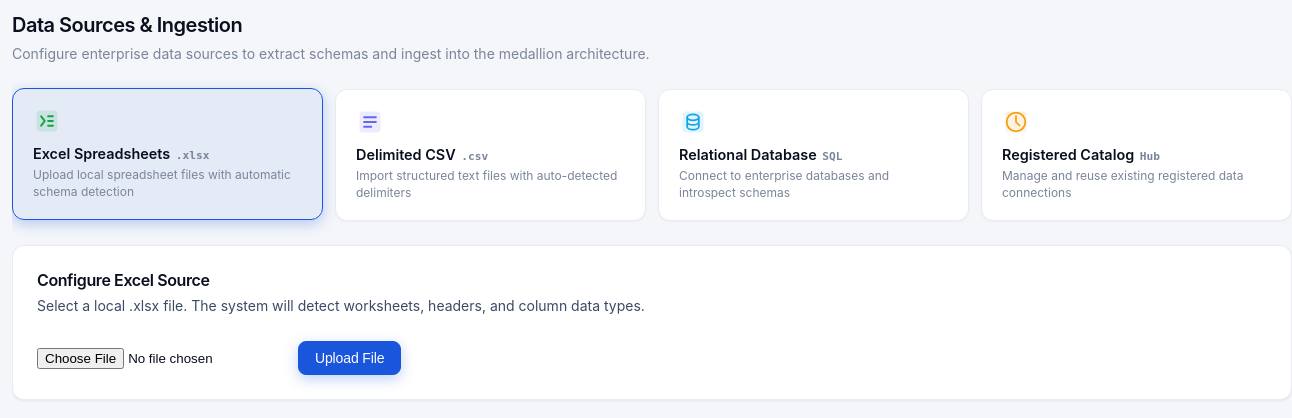
Test case: DataSourcesPage › switches to CSV upload tab when clicked
Click the tab "Delimited CSV" at (490, 155), box [335,89,646,221]
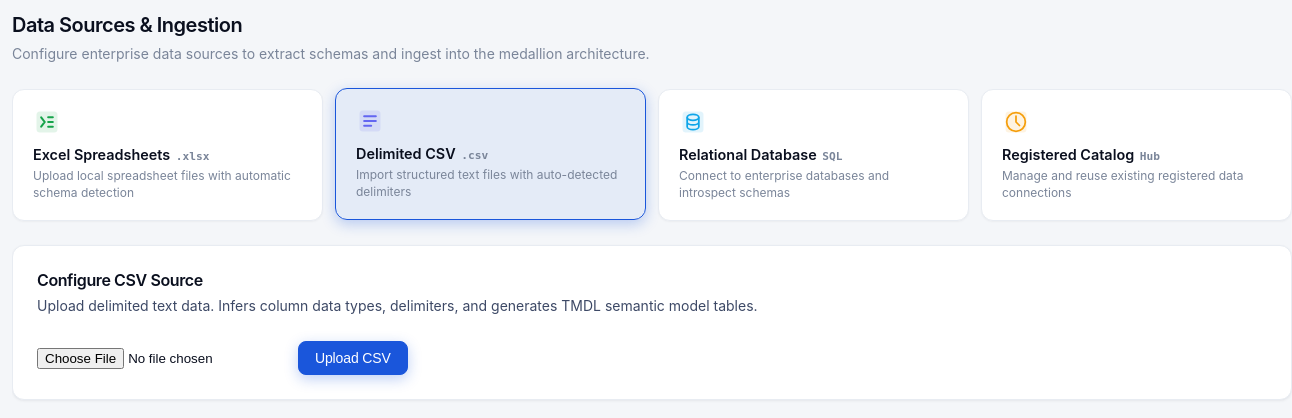
Check: the file field named "csv-upload-input" is shown, box [37,348,290,369]
Check: the text "Infers column data types, delimiters" is shown, box [37,297,758,314]
